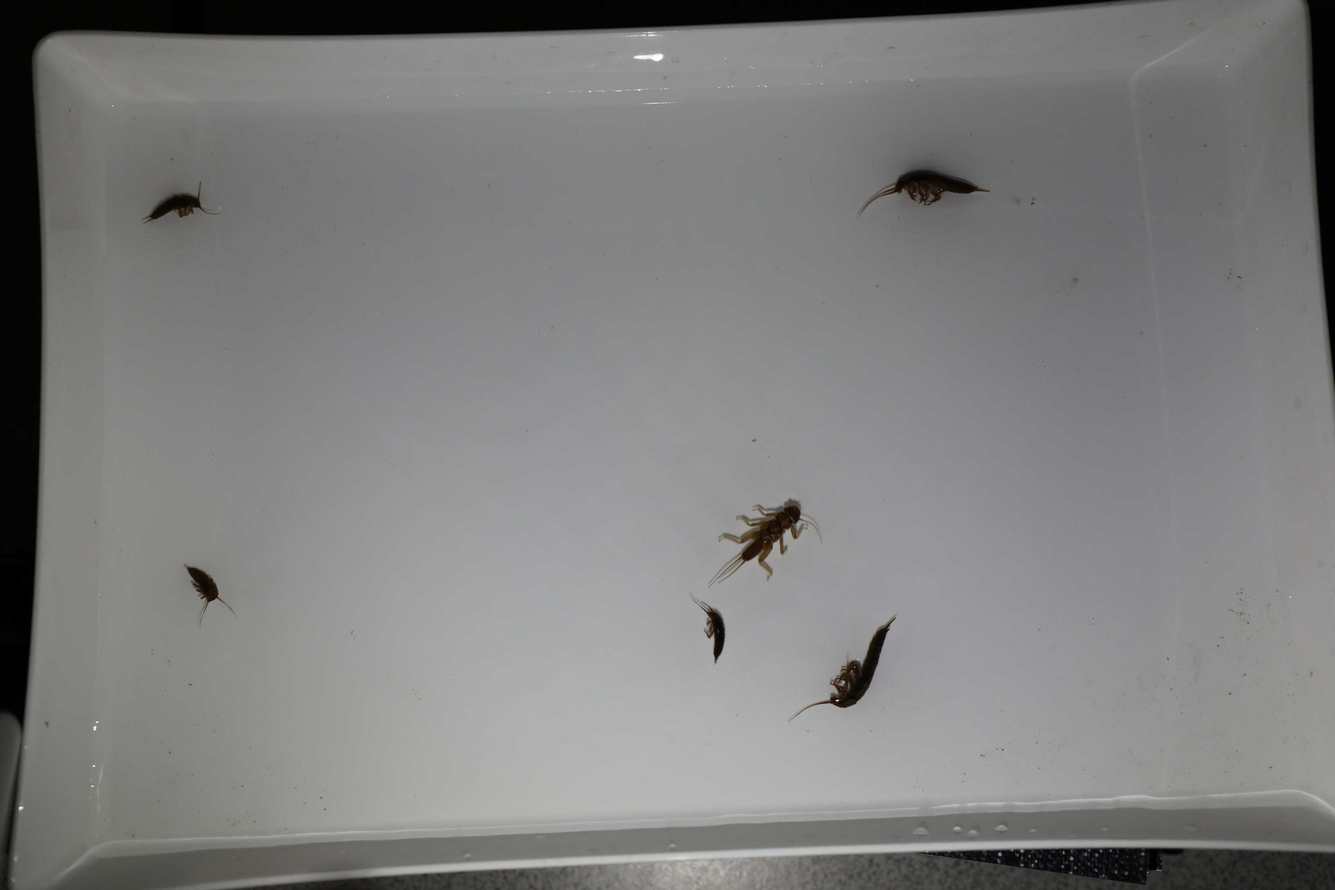Stonefly: (786, 614, 897, 727), (710, 497, 822, 588), (855, 162, 987, 223), (175, 561, 236, 626), (144, 178, 215, 230), (684, 593, 728, 664)
